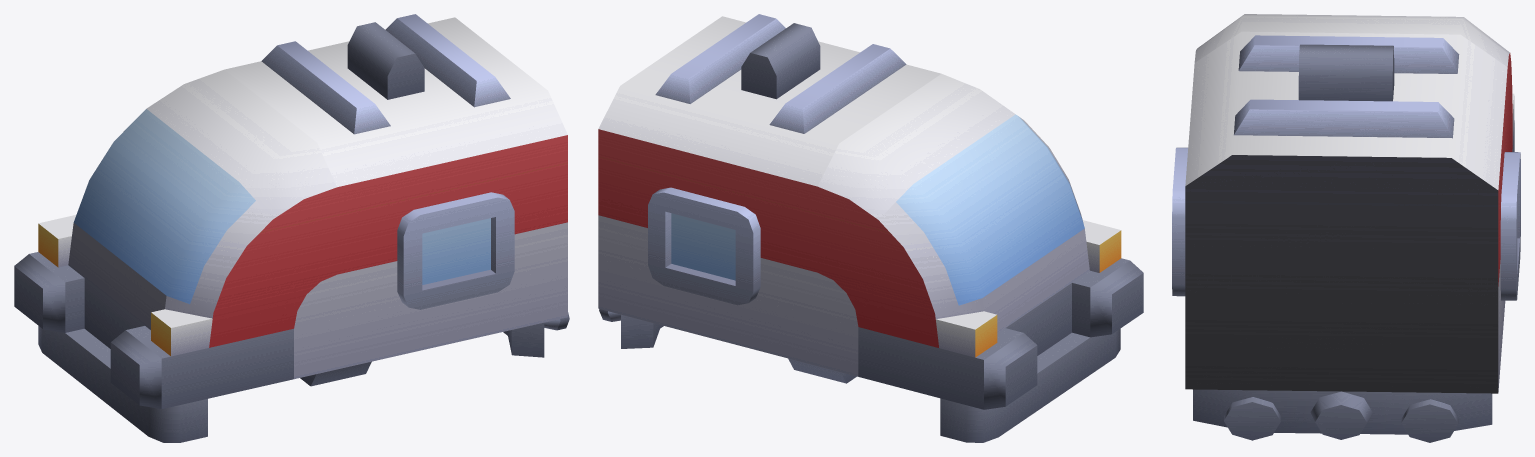
The model's file is train-electric-city-a_lev2.glb.
3 views of the same model, side by side, from view 1: azimuth 30°, elevation 25°; view 2: azimuth 150°, elevation 25°; view 3: azimuth 270°, elevation 25° (orthographic). The views are drawn at different scales.
Parts seen in each view (by area): view 1: train-electric-city-a_lev2; view 2: train-electric-city-a_lev2; view 3: train-electric-city-a_lev2.
Part boxes in pixels (x1,y1,x2,y2): train-electric-city-a_lev2: [14, 14, 569, 442]; train-electric-city-a_lev2: [598, 14, 1143, 442]; train-electric-city-a_lev2: [1172, 14, 1520, 442].
Bounding box in the file's own units: 4.05 × 2.53 × 2.49.
1 material, 1 textured.
